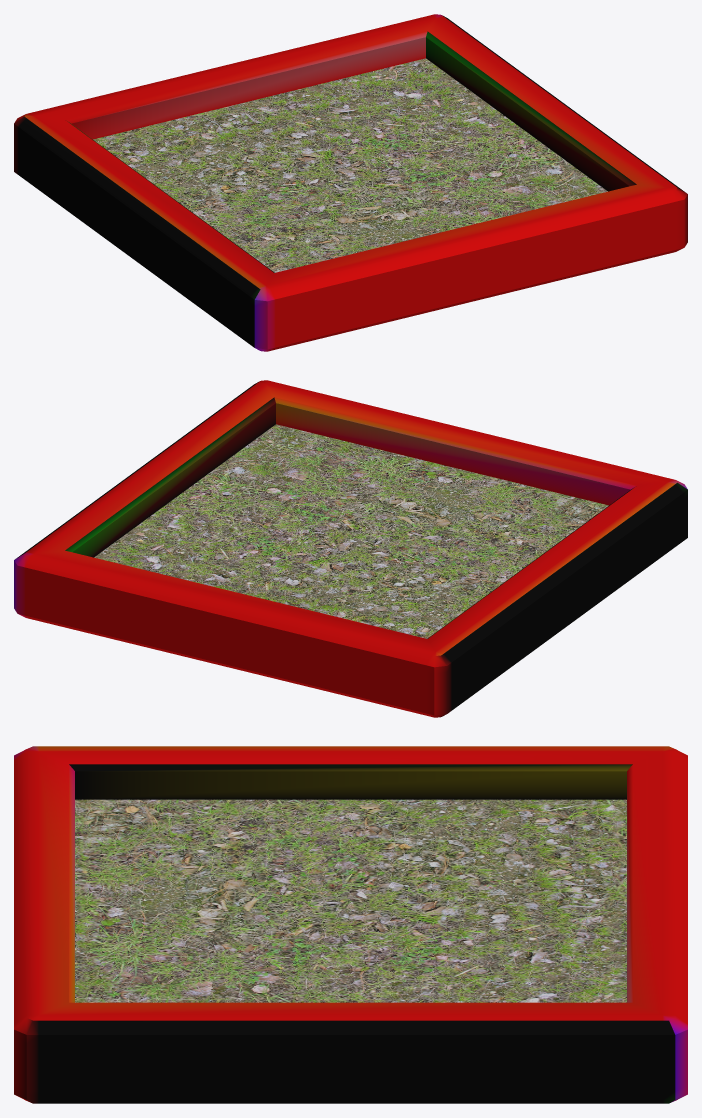
The model's file is BAseTree.fbx.
The picture shows the model from 3 angles, top to bottom: view 1: azimuth 30°, elevation 25°; view 2: azimuth 150°, elevation 25°; view 3: azimuth 270°, elevation 25°; orthographic projection. The views are drawn at different scales.
Visible parts, largest first — view 1: polymsh_detached; view 2: polymsh_detached; view 3: polymsh_detached.
Part boxes in pixels (left/top/right/bottom): polymsh_detached: left=14, top=14, right=687, bottom=351; polymsh_detached: left=14, top=380, right=687, bottom=717; polymsh_detached: left=14, top=746, right=687, bottom=1103.
Size of the model in its own units: 140 by 19 by 140.
